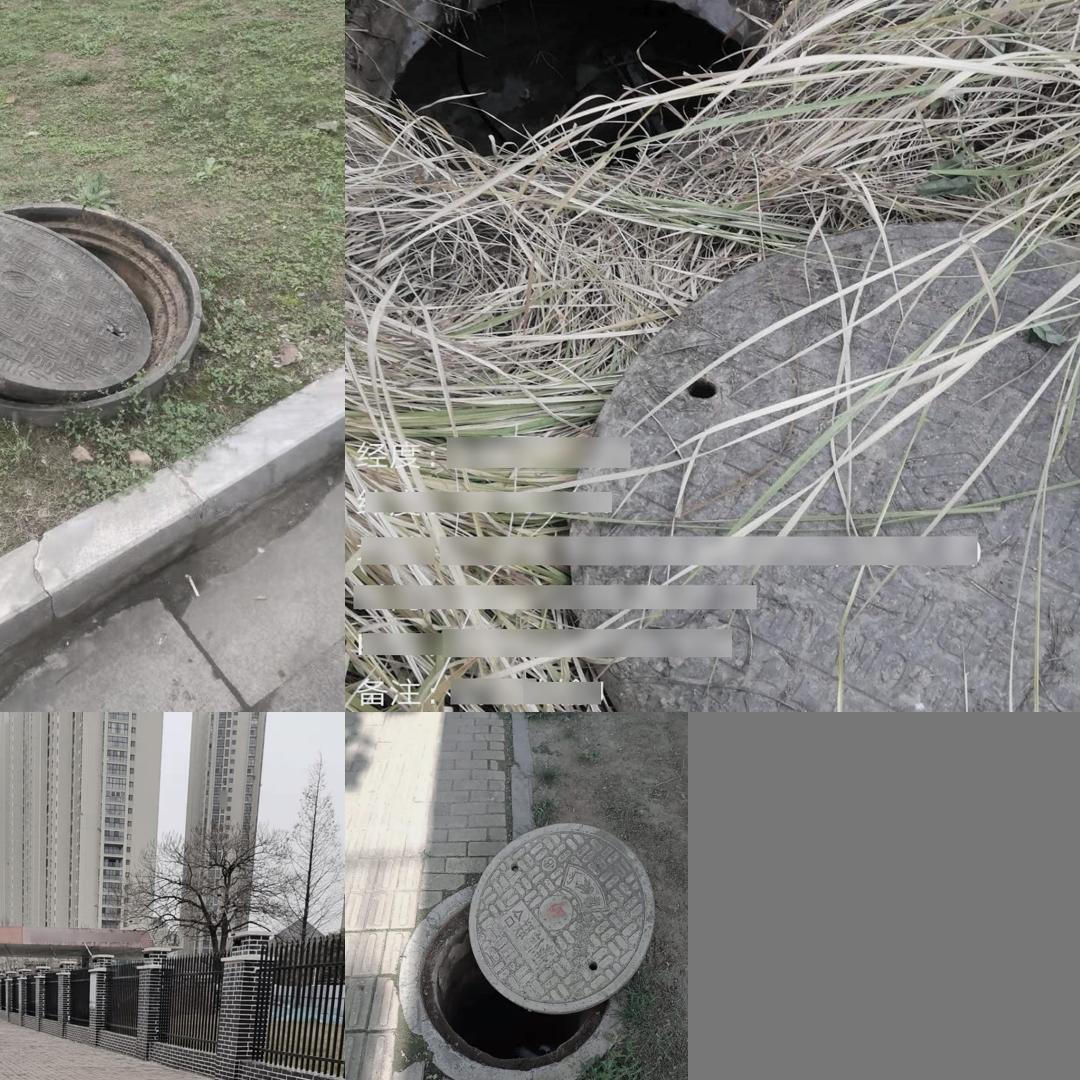uncovered: (365, 0, 1080, 688), (399, 820, 654, 1080), (0, 200, 206, 423)
